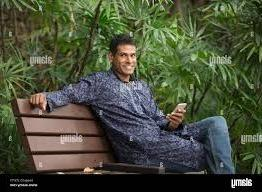Human: (30, 41, 262, 177)
